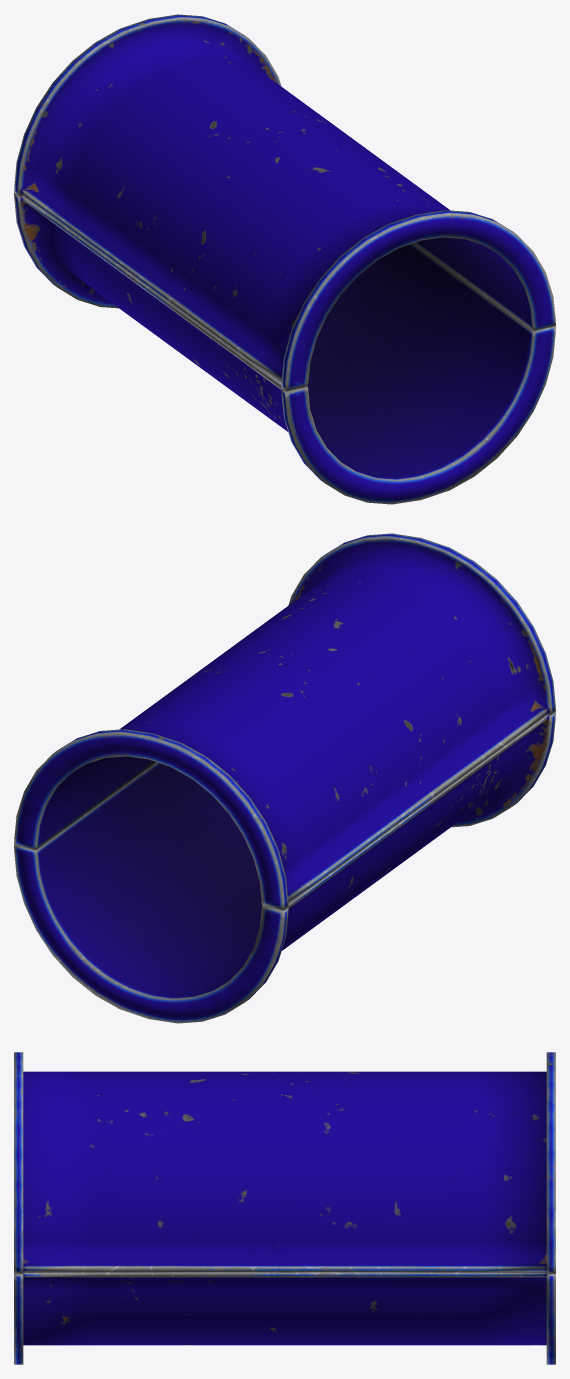
The model's file is PlasticPipe.fbx.
The picture shows the model from 3 angles, top to bottom: view 1: azimuth 30°, elevation 25°; view 2: azimuth 150°, elevation 25°; view 3: azimuth 270°, elevation 25°; orthographic projection.
Visible parts, largest first — view 1: Object_2; view 2: Object_2; view 3: Object_2.
Boxes of the visible parts, left/top/right/bottom form: Object_2: left=14, top=14, right=555, bottom=504; Object_2: left=14, top=533, right=555, bottom=1023; Object_2: left=14, top=1052, right=555, bottom=1364.
Size of the model in its own units: 227 by 227 by 396.
